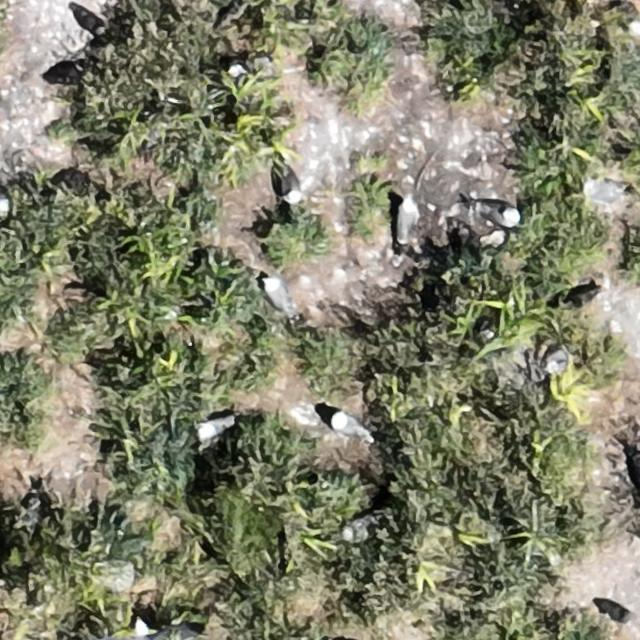umineko: (480, 202, 519, 225), (266, 278, 290, 315), (330, 412, 365, 437), (584, 181, 625, 202), (74, 9, 104, 35), (397, 200, 416, 240), (200, 416, 234, 438), (341, 516, 372, 540), (282, 163, 302, 200), (0, 189, 7, 213)
